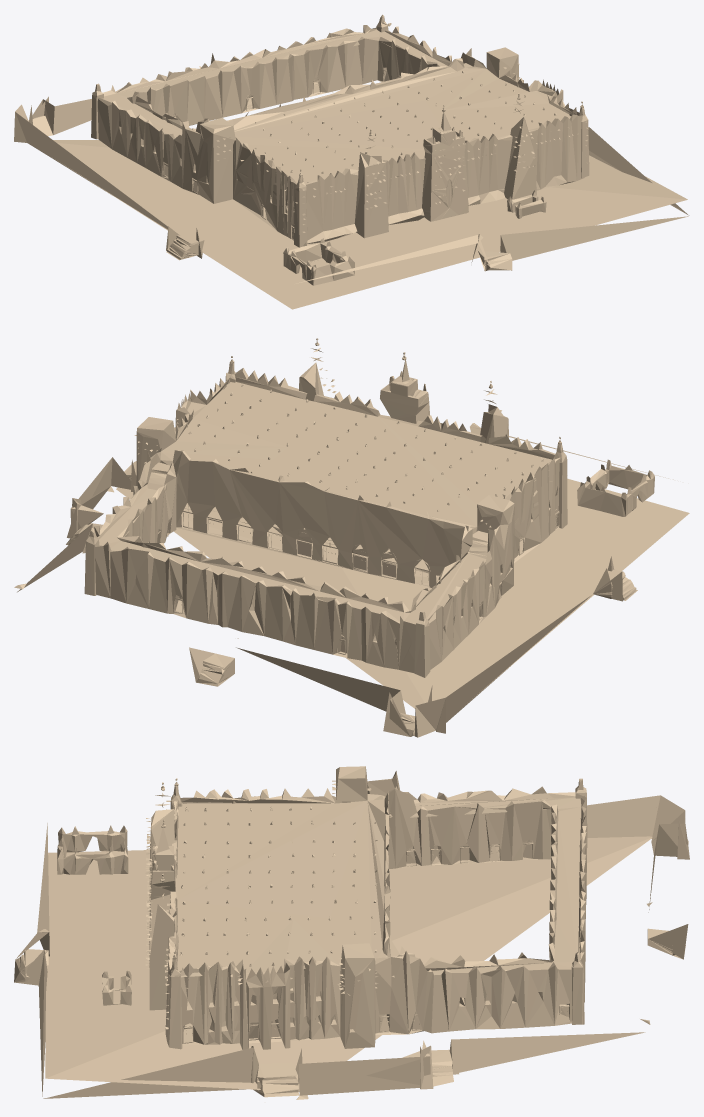
File: djenne-mosque-ios.glb
3 views of the same model, one above another, from view 1: azimuth 30°, elevation 25°; view 2: azimuth 150°, elevation 25°; view 3: azimuth 270°, elevation 25° (orthographic). The views are drawn at different scales.
Parts seen in each view (by area): view 1: Mosquee_Base, Plateforme, Mosquee_Cloture, Minarets, Tombeaux_Grands, Poteaux, Torons_Externes, Tombeaux_Petits, Canaris; view 2: Mosquee_Base, Plateforme, Mosquee_Cloture, Minarets, Tombeaux_Grands, Poteaux, Porte_Cour, Canaris; view 3: Mosquee_Base, Plateforme, Mosquee_Cloture, Minarets, Tombeaux_Grands, Poteaux, Canaris, Torons_Externes, Tombeaux_Petits.
Boxes of the visible parts, box(x1,y1,x2,y2) form: Mosquee_Base: box(97, 25, 584, 243); Plateforme: box(53, 140, 687, 309); Mosquee_Cloture: box(14, 23, 689, 283); Minarets: box(354, 111, 536, 238); Tombeaux_Grands: box(283, 238, 354, 285); Poteaux: box(91, 14, 589, 247); Torons_Externes: box(216, 63, 588, 232); Tombeaux_Petits: box(507, 190, 546, 218); Canaris: box(254, 71, 556, 182); Mosquee_Base: box(94, 368, 560, 672); Plateforme: box(116, 478, 689, 708); Mosquee_Cloture: box(14, 423, 673, 737); Minarets: box(299, 360, 508, 443); Tombeaux_Grands: box(577, 459, 654, 516); Poteaux: box(84, 362, 567, 677); Porte_Cour: box(148, 502, 430, 586); Canaris: box(188, 383, 543, 511); Mosquee_Base: box(165, 766, 586, 1049); Plateforme: box(45, 836, 652, 1091); Mosquee_Cloture: box(14, 795, 689, 1099); Minarets: box(149, 809, 176, 1010); Tombeaux_Grands: box(57, 825, 128, 874); Poteaux: box(167, 778, 587, 1049); Canaris: box(180, 806, 377, 970); Torons_Externes: box(145, 780, 394, 1029); Tombeaux_Petits: box(102, 970, 131, 1005).
Bounding box in the file's own units: 87.99 × 23.92 × 93.19.
